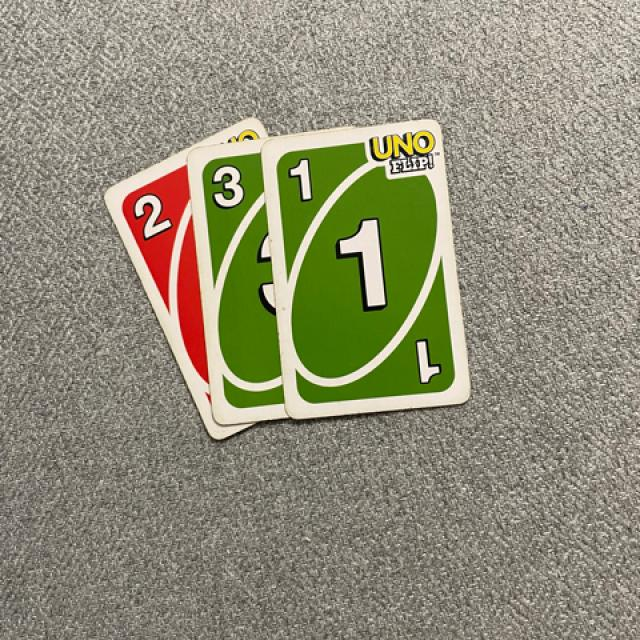lgreen-1: (275, 149, 333, 218)
lgreen-3: (203, 157, 252, 220)
lred-2: (128, 186, 180, 246)
